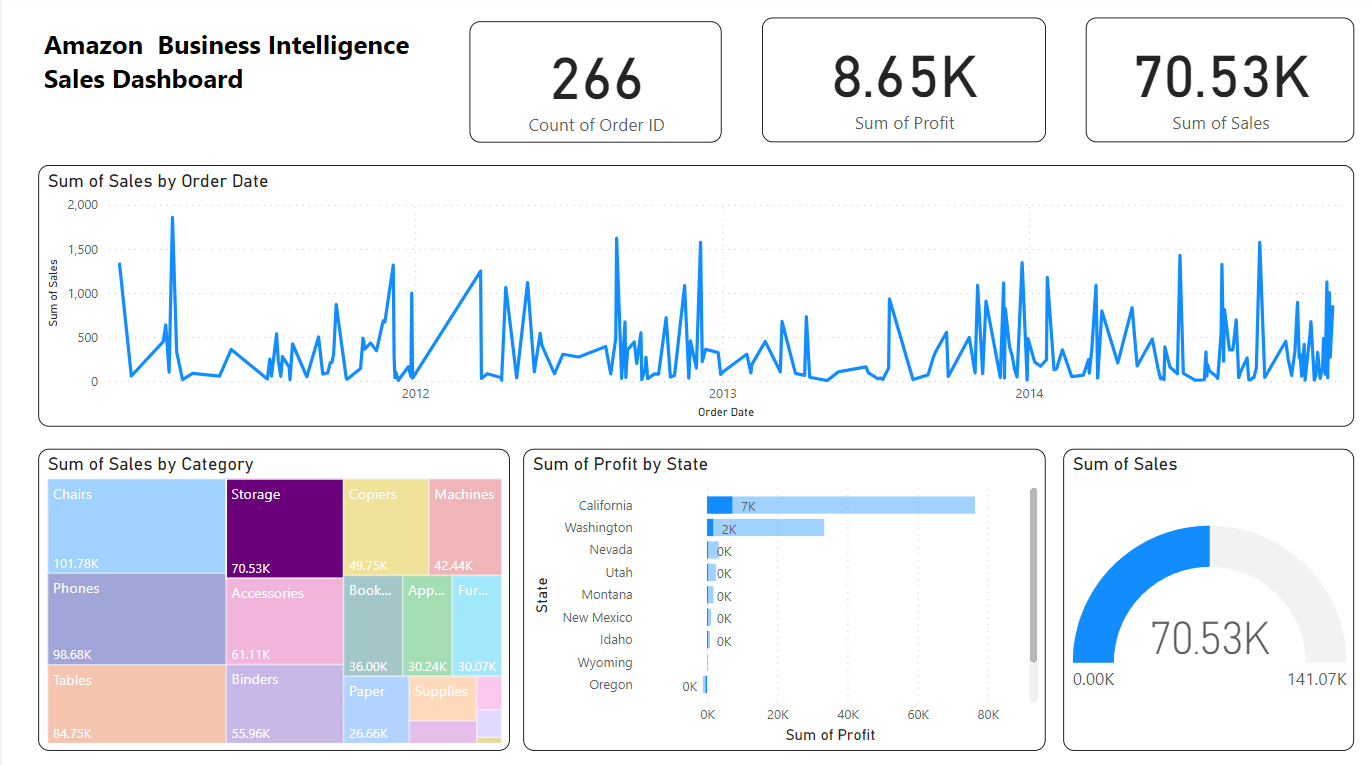

Layout of this report page (visuals, bound fields, positions):
{"tool":"powerbi","page":{"name":"Page 1","canvas":[1280,720],"ordinal":0},"visuals":[{"type":"card","fields":{"Values":["Sum(Walmart.Sales)"]},"box":[1007.4,20.9,249.8,116.2],"z":0},{"type":"card","fields":{"Values":["Sum(Walmart.Profit)"]},"box":[706.5,20.9,263.8,116.2],"z":1000},{"type":"card","fields":{"Values":["CountNonNull(Walmart.Order ID)"]},"box":[434.6,24.4,234.7,112.7],"z":2000},{"type":"lineChart","fields":{"Category":["Walmart.Order Date"],"Y":["Sum(Walmart.Sales)"]},"box":[33.7,158,1223.5,242.8],"z":3000},{"type":"treemap","fields":{"Group":["Walmart.Category"],"Values":["Sum(Walmart.Sales)"]},"box":[33.7,421.8,438.1,281.2],"z":4000},{"type":"clusteredBarChart","fields":{"Category":["Walmart.State"],"Y":["Sum(Walmart.Profit)"]},"box":[484.5,421.8,485.7,281.2],"z":5000},{"type":"gauge","fields":{"Y":["Sum(Walmart.Sales)"]},"box":[986.5,421.8,270.7,281.2],"z":6000},{"type":"textbox","box":[33.7,24.4,369.5,116.2],"z":7000}]}

Visuals, with their boxes in screenshot pixels (x1, y1, x2, y2), scaled from the page's 1280x720 canvas onto the 1372x765 screenshot:
card - Sum(Walmart.Sales): (x1=1080, y1=22, x2=1348, y2=146)
card - Sum(Walmart.Profit): (x1=757, y1=22, x2=1040, y2=146)
card - CountNonNull(Walmart.Order ID): (x1=466, y1=26, x2=717, y2=146)
lineChart - Walmart.Order Date x Sum(Walmart.Sales): (x1=36, y1=168, x2=1348, y2=426)
treemap - Walmart.Category x Sum(Walmart.Sales): (x1=36, y1=448, x2=506, y2=747)
clusteredBarChart - Walmart.State x Sum(Walmart.Profit): (x1=519, y1=448, x2=1040, y2=747)
gauge - Sum(Walmart.Sales): (x1=1057, y1=448, x2=1348, y2=747)
textbox: (x1=36, y1=26, x2=432, y2=149)
